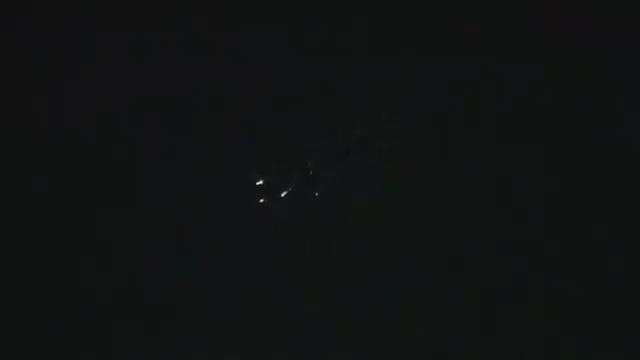Plane: (207, 156, 362, 213)
